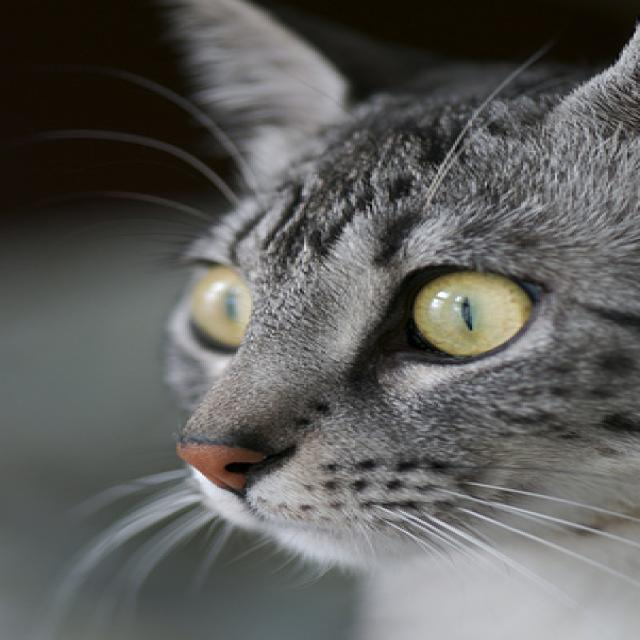Egyptian Mau: (136, 0, 640, 640)
